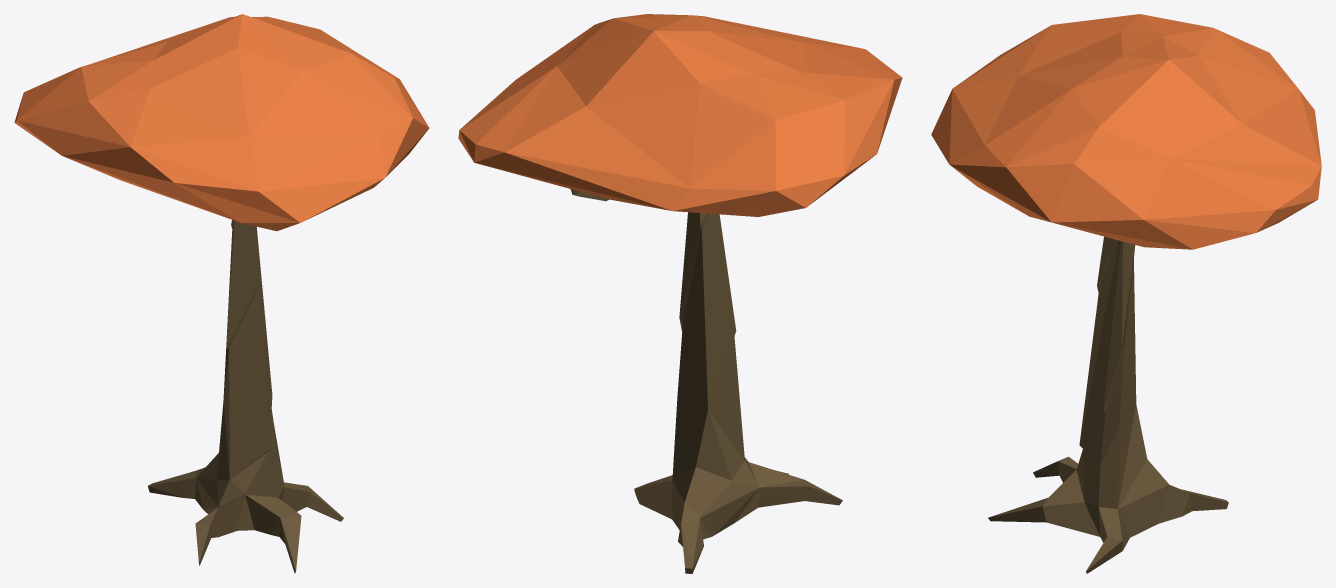
Rendered from Tree_Dry_A.fbx.
The picture shows the model from 3 angles, left to right: view 1: azimuth 30°, elevation 25°; view 2: azimuth 150°, elevation 25°; view 3: azimuth 270°, elevation 25°; orthographic projection. The views are drawn at different scales.
Parts seen in each view (by area): view 1: Tree_Dry_A; view 2: Tree_Dry_A; view 3: Tree_Dry_A.
Part boxes in pixels (x1,y1,x2,y2): Tree_Dry_A: (14, 14, 429, 573); Tree_Dry_A: (458, 14, 902, 573); Tree_Dry_A: (931, 14, 1321, 573).
Bounding box in the file's own units: 389 × 518 × 377.
